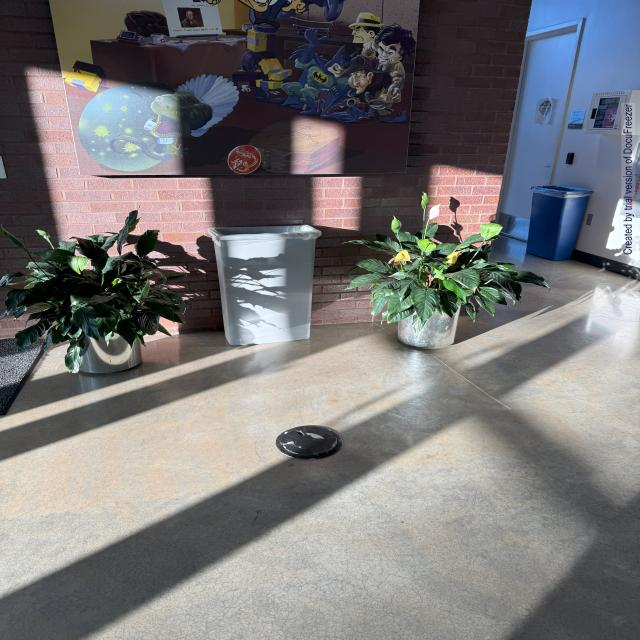Trash bin: (205, 212, 358, 373)
